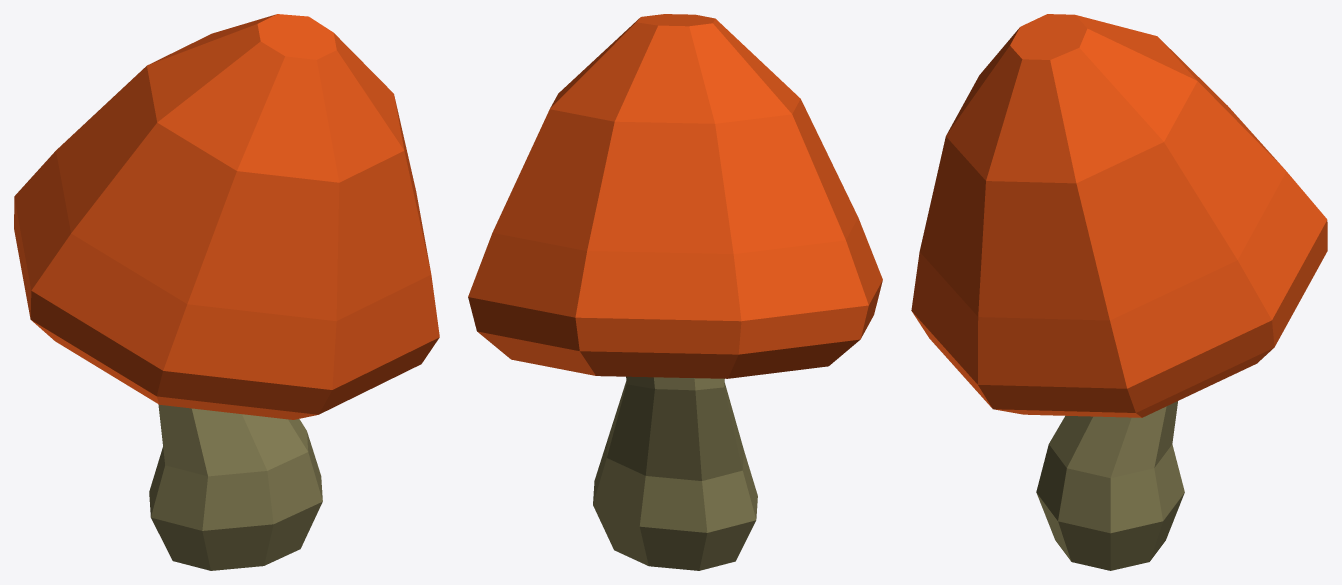
The model's file is red_mushroom2.fbx.
3 views of the same model, side by side, from view 1: azimuth 30°, elevation 25°; view 2: azimuth 150°, elevation 25°; view 3: azimuth 270°, elevation 25° (orthographic). The views are drawn at different scales.
Parts seen in each view (by area): view 1: Circle; view 2: Circle; view 3: Circle.
Part boxes in pixels (left/top/right/bottom): Circle: left=14, top=14, right=439, bottom=570; Circle: left=468, top=14, right=882, bottom=570; Circle: left=911, top=14, right=1327, bottom=570.
Bounding box in the file's own units: 399 × 510 × 365.
